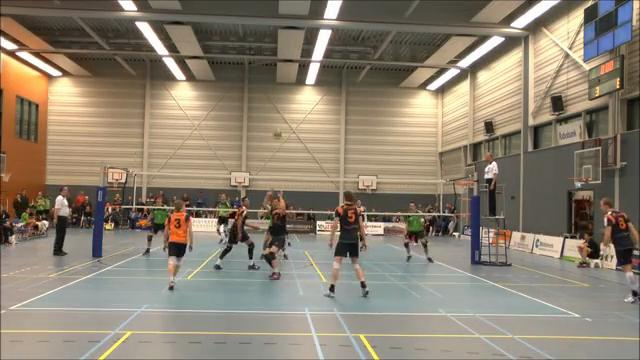alzata: (257, 187, 287, 284)
